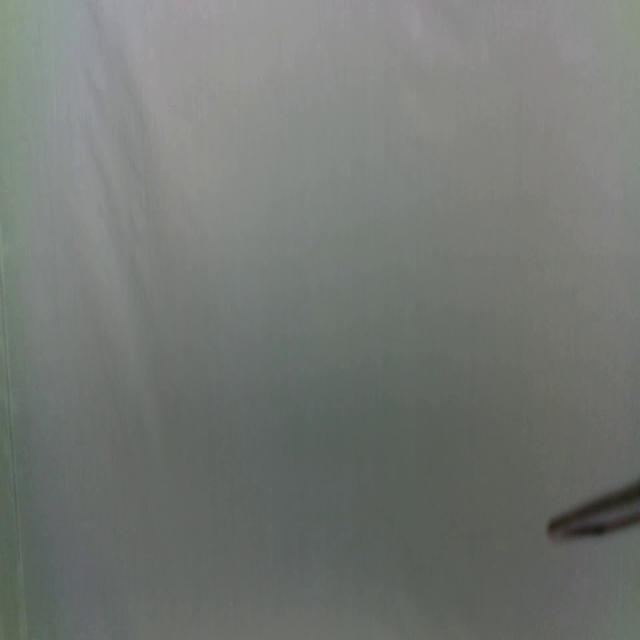crease: (0, 256, 26, 636)
